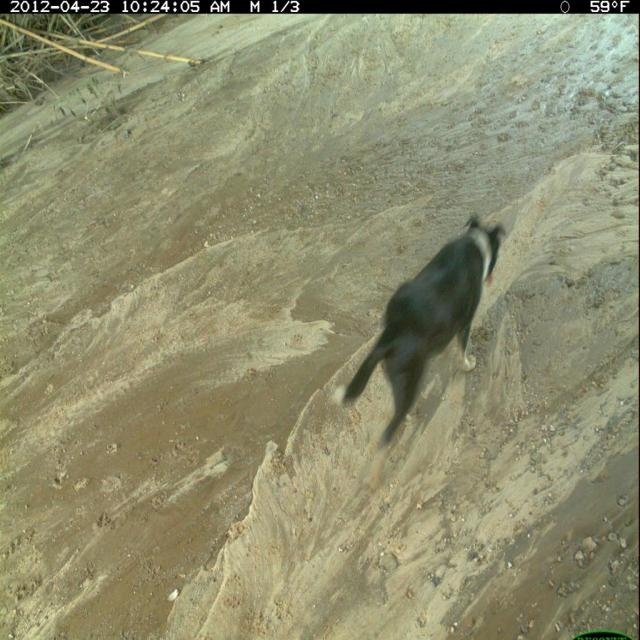dog: (333, 208, 509, 496)
